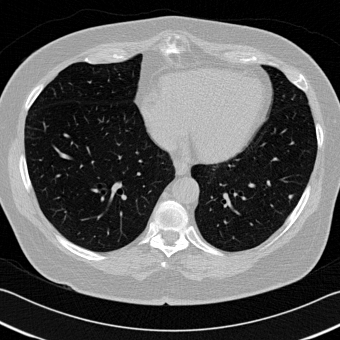nodule: (288, 194, 292, 198)
